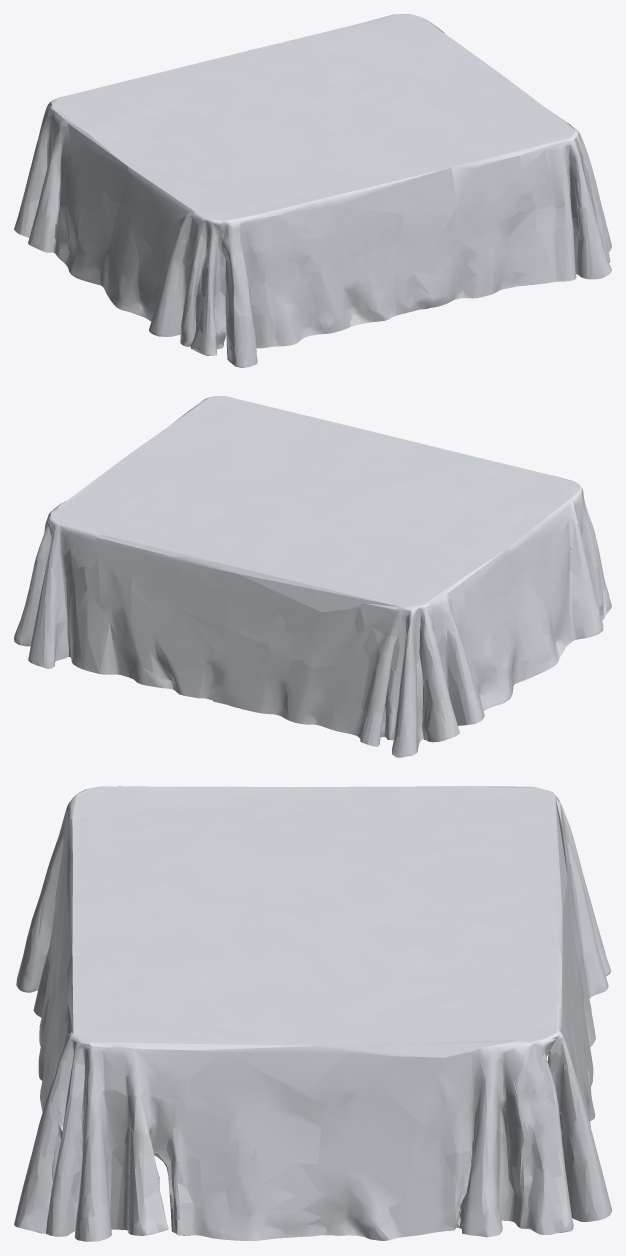
File: w5clothtable.glb
The picture shows the model from 3 angles, top to bottom: view 1: azimuth 30°, elevation 25°; view 2: azimuth 150°, elevation 25°; view 3: azimuth 270°, elevation 25°; orthographic projection. The views are drawn at different scales.
Visible parts, largest first — view 1: output_unwrapped; view 2: output_unwrapped; view 3: output_unwrapped.
Part boxes in pixels (x1,y1,x2,y2): output_unwrapped: [14, 14, 611, 367]; output_unwrapped: [14, 396, 611, 757]; output_unwrapped: [14, 786, 611, 1241].
Size of the model in its own units: 1.2 by 0.3405 by 0.9759.
1 material, 1 textured.
